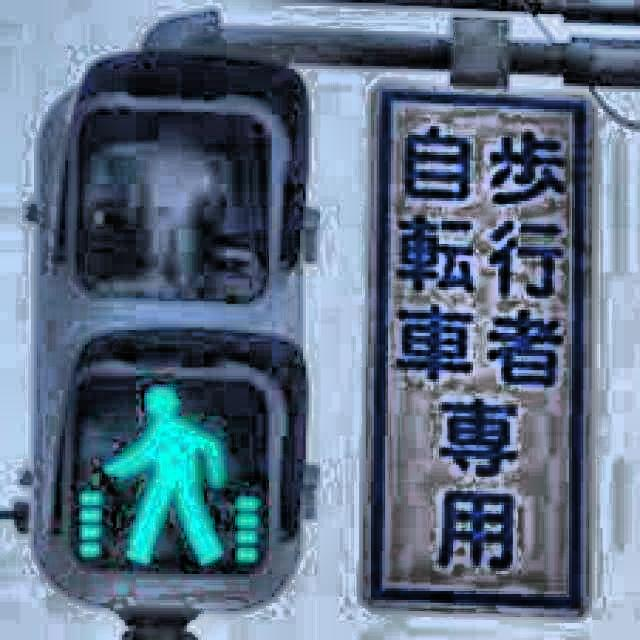semaforo pedestre: (24, 44, 594, 618)
